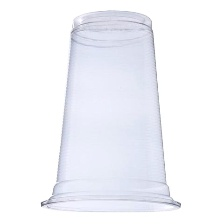glass: (37, 5, 183, 215)
